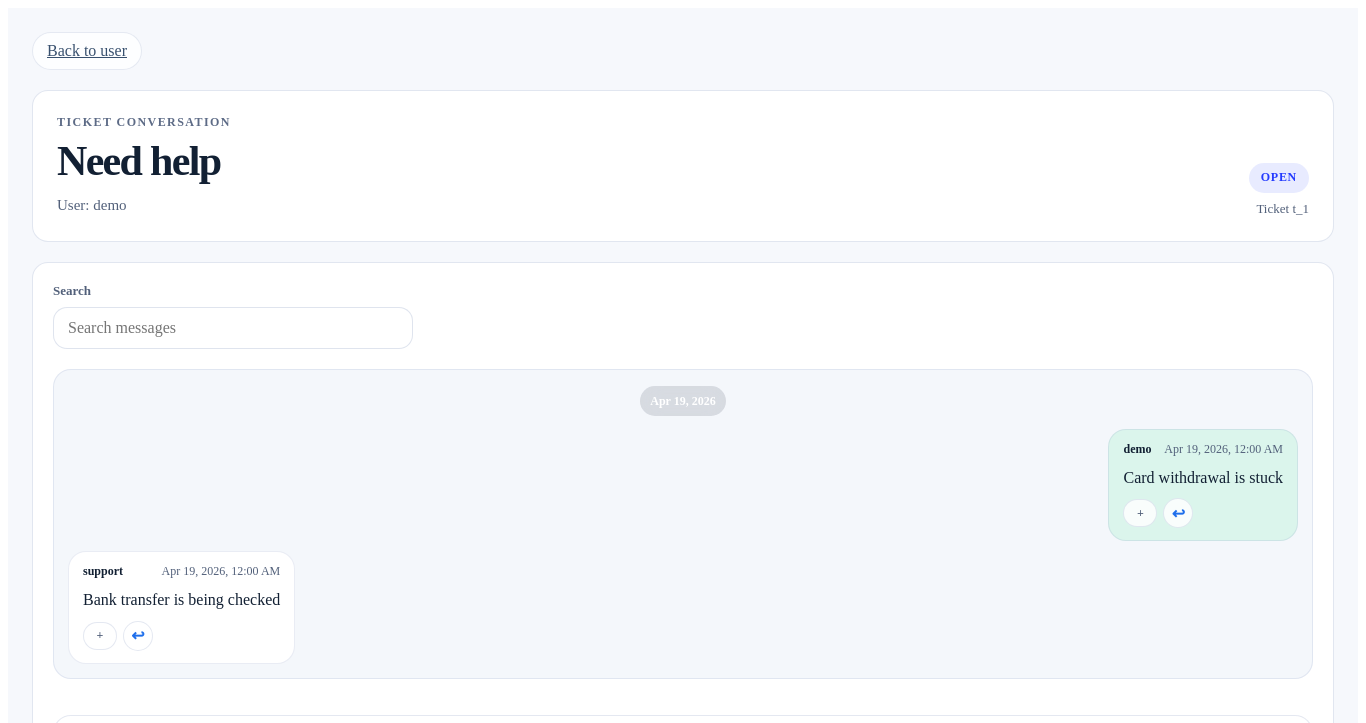
Scenario: support-admin ticket chat page › filters support chat messages by search text
The image size is (1366, 723).
Type "bank" into the search field with placeholder "Search messages".
click(233, 328); type("bank")  # box [53,307,413,349]
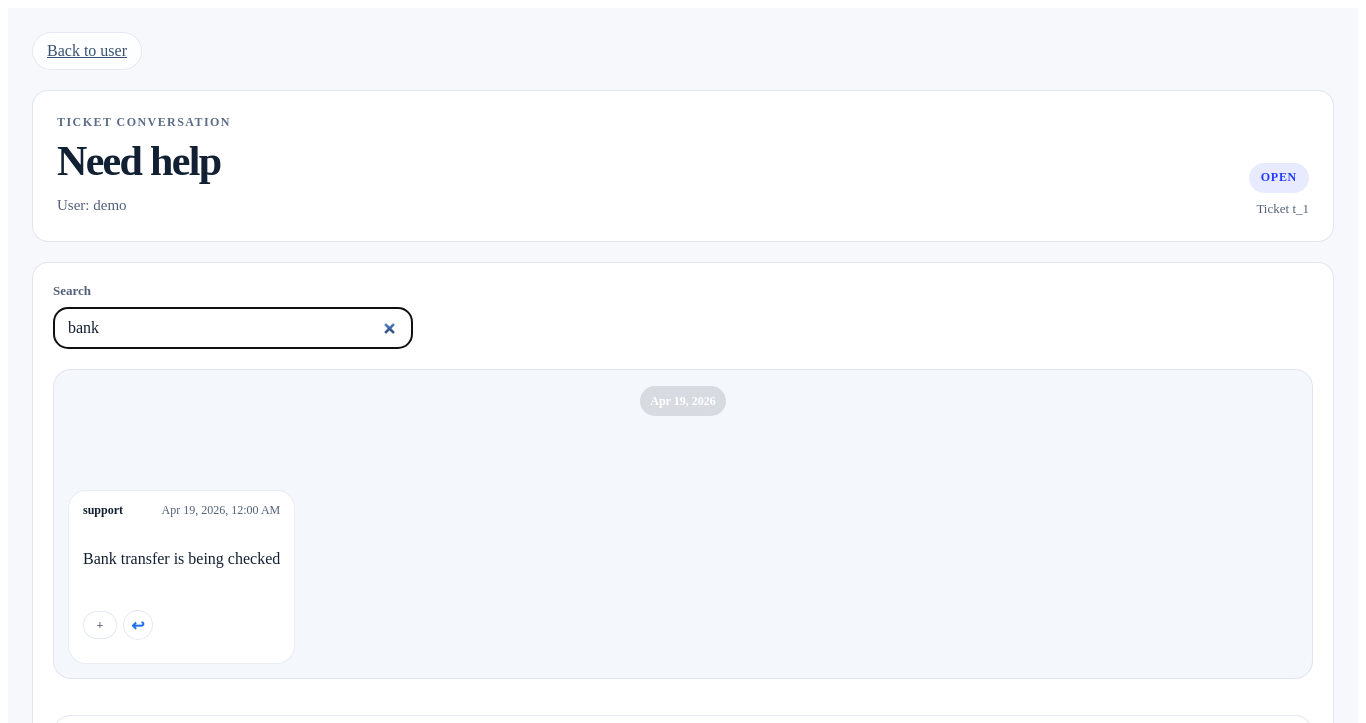
Expected: the text "Bank transfer is being checked" is shown, [83,550,280,567]
Expected: the text "Card withdrawal is stuck" is gone
